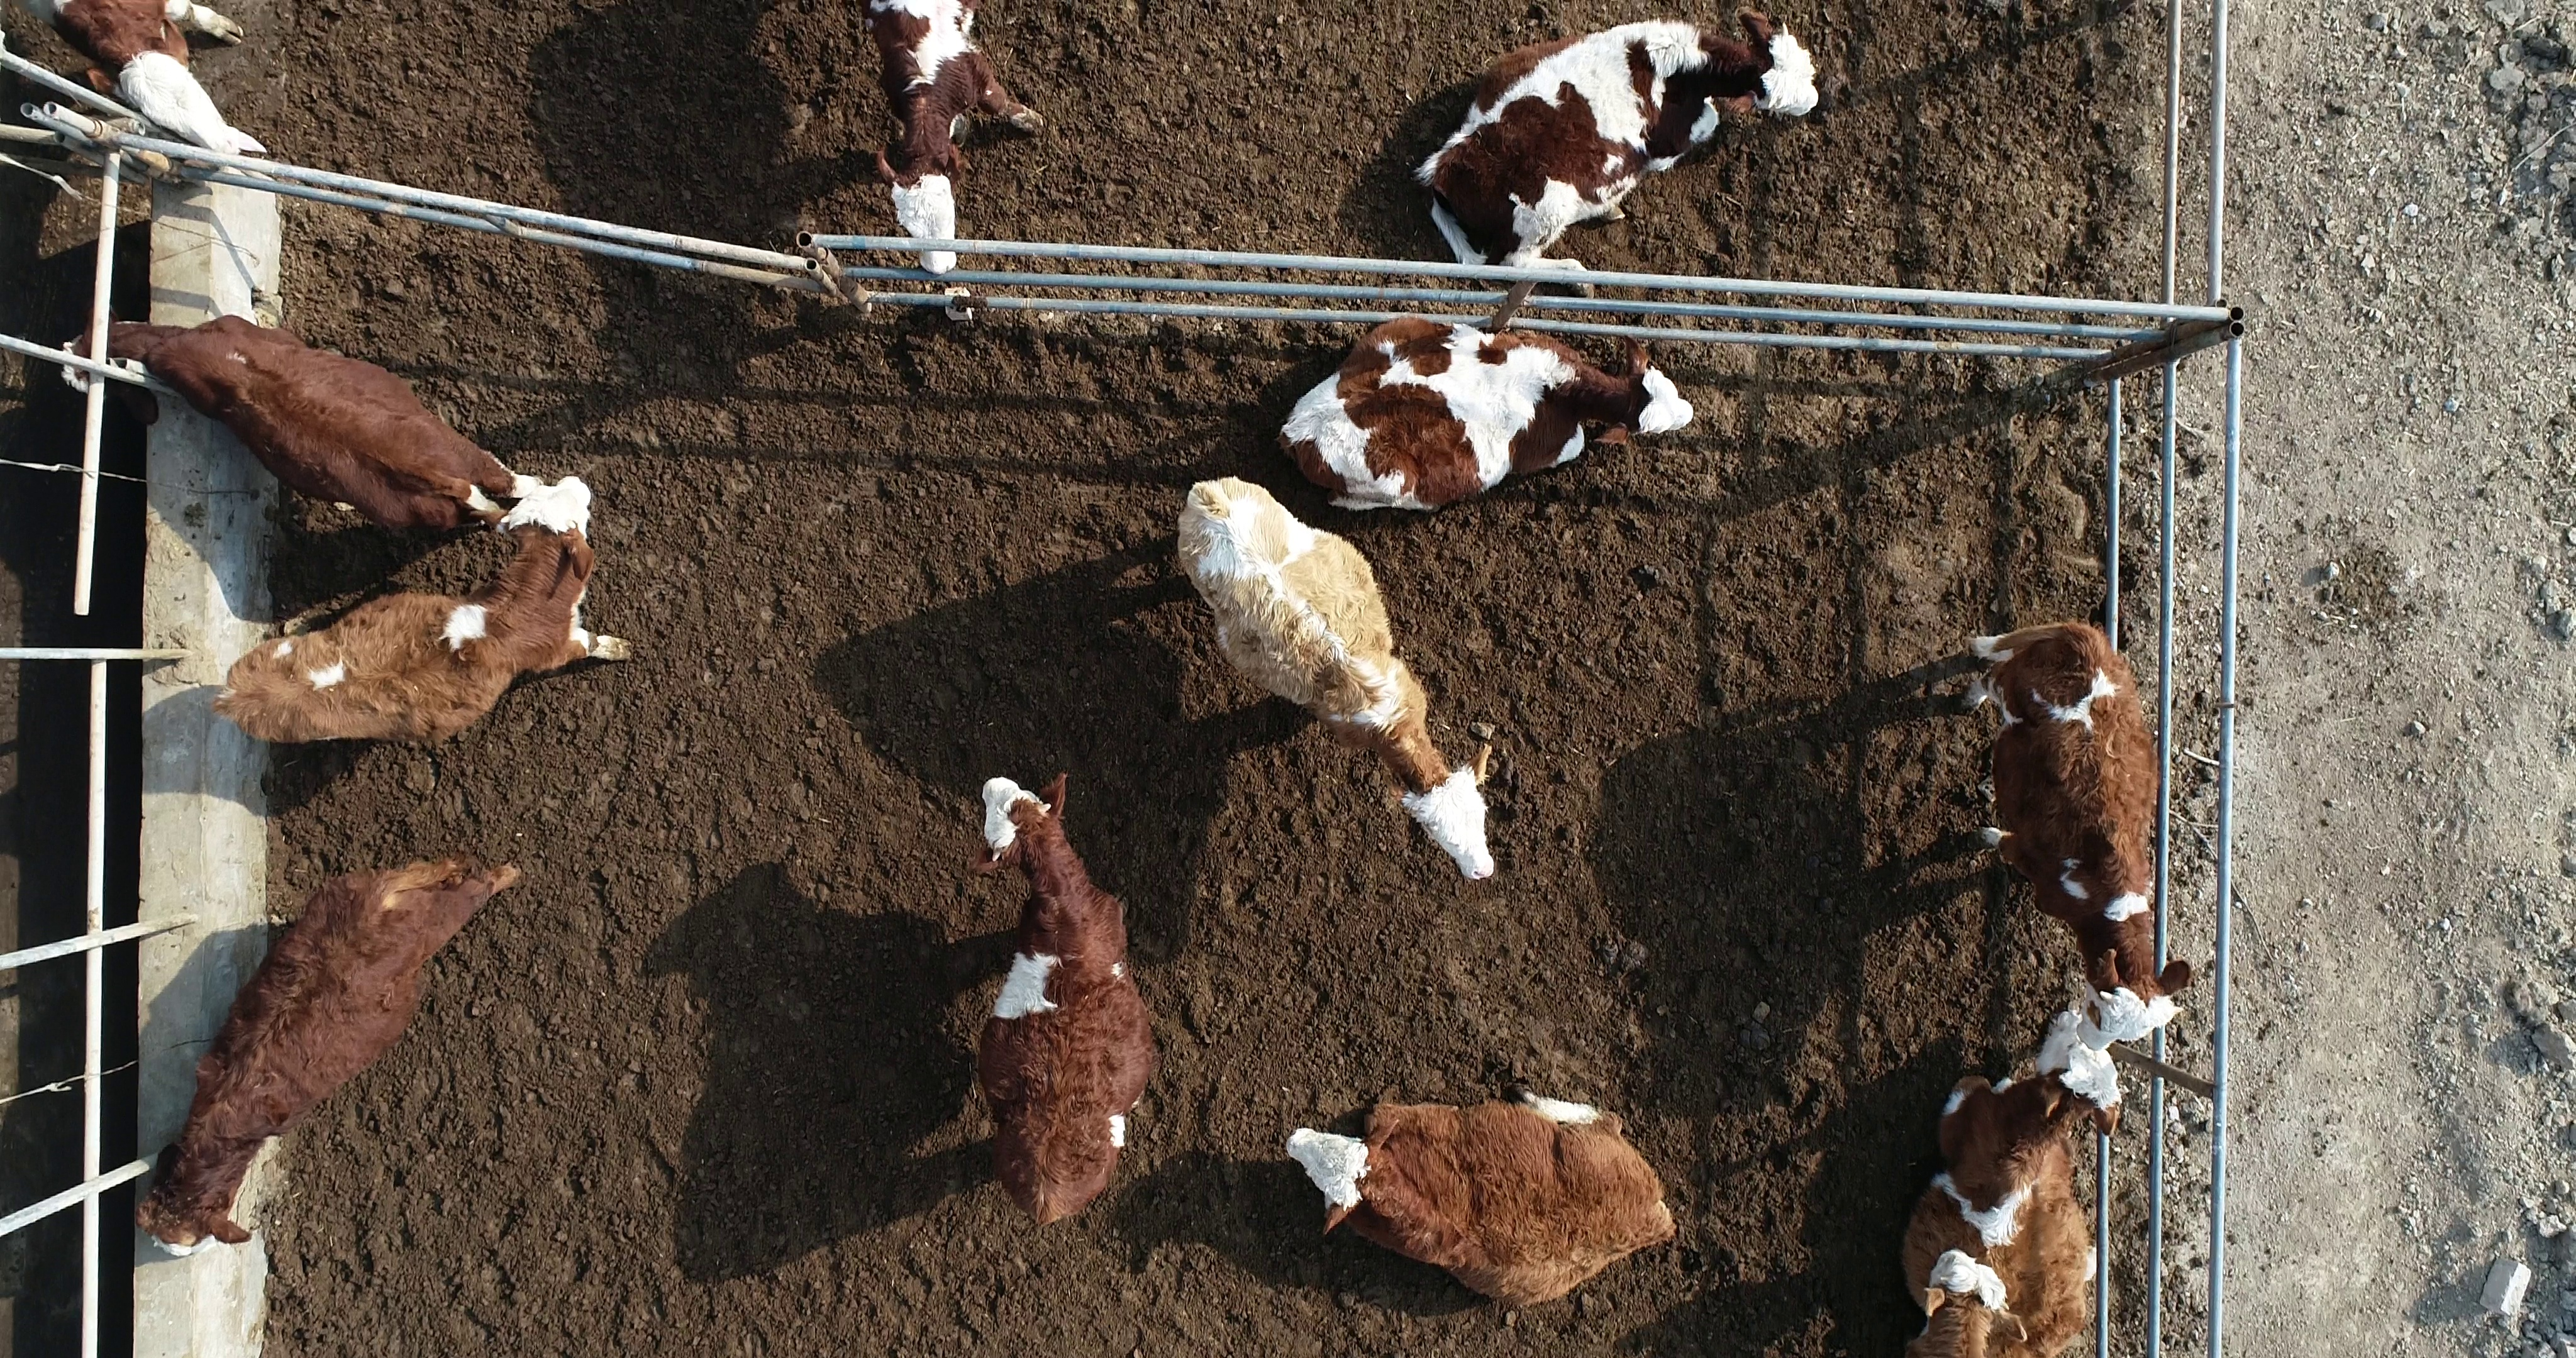cattle: (124, 849, 530, 1266), (1170, 467, 1498, 886), (204, 474, 642, 753), (53, 305, 549, 550), (1400, 12, 1825, 295), (1959, 612, 2196, 1055), (954, 762, 1164, 1237), (1278, 1084, 1680, 1317), (1252, 314, 1699, 516)
